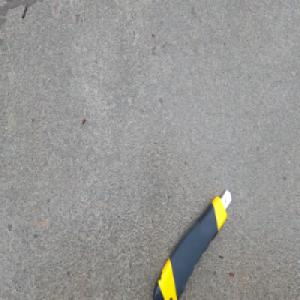Cutter: (150, 187, 232, 300)
